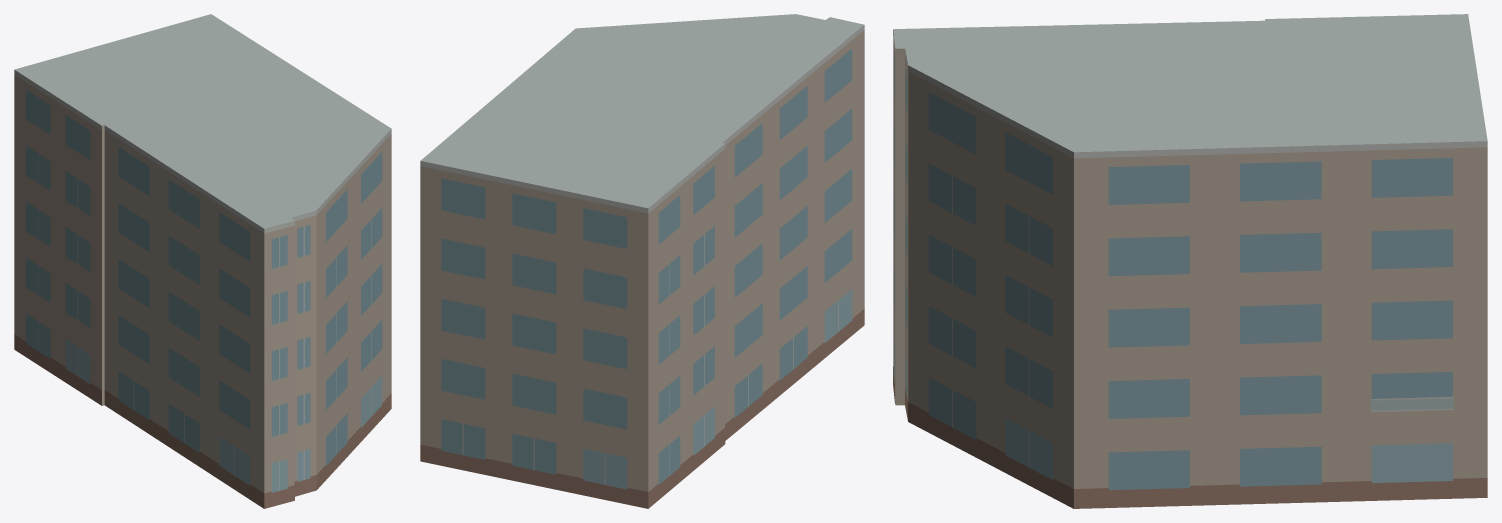
Rendered from survey-upis-32526671.glb.
3 views of the same model, side by side, from view 1: azimuth 30°, elevation 25°; view 2: azimuth 150°, elevation 25°; view 3: azimuth 270°, elevation 25° (orthographic). The views are drawn at different scales.
Parts seen in each view (by area): view 1: survey-upis-32526671.tmp; view 2: survey-upis-32526671.tmp; view 3: survey-upis-32526671.tmp.
Part boxes in pixels (<box>): survey-upis-32526671.tmp: <box>14,14,391,508</box>; survey-upis-32526671.tmp: <box>420,14,864,508</box>; survey-upis-32526671.tmp: <box>893,14,1487,508</box>.
Bounding box in the file's own units: 11.82 × 14.2 × 21.47.
